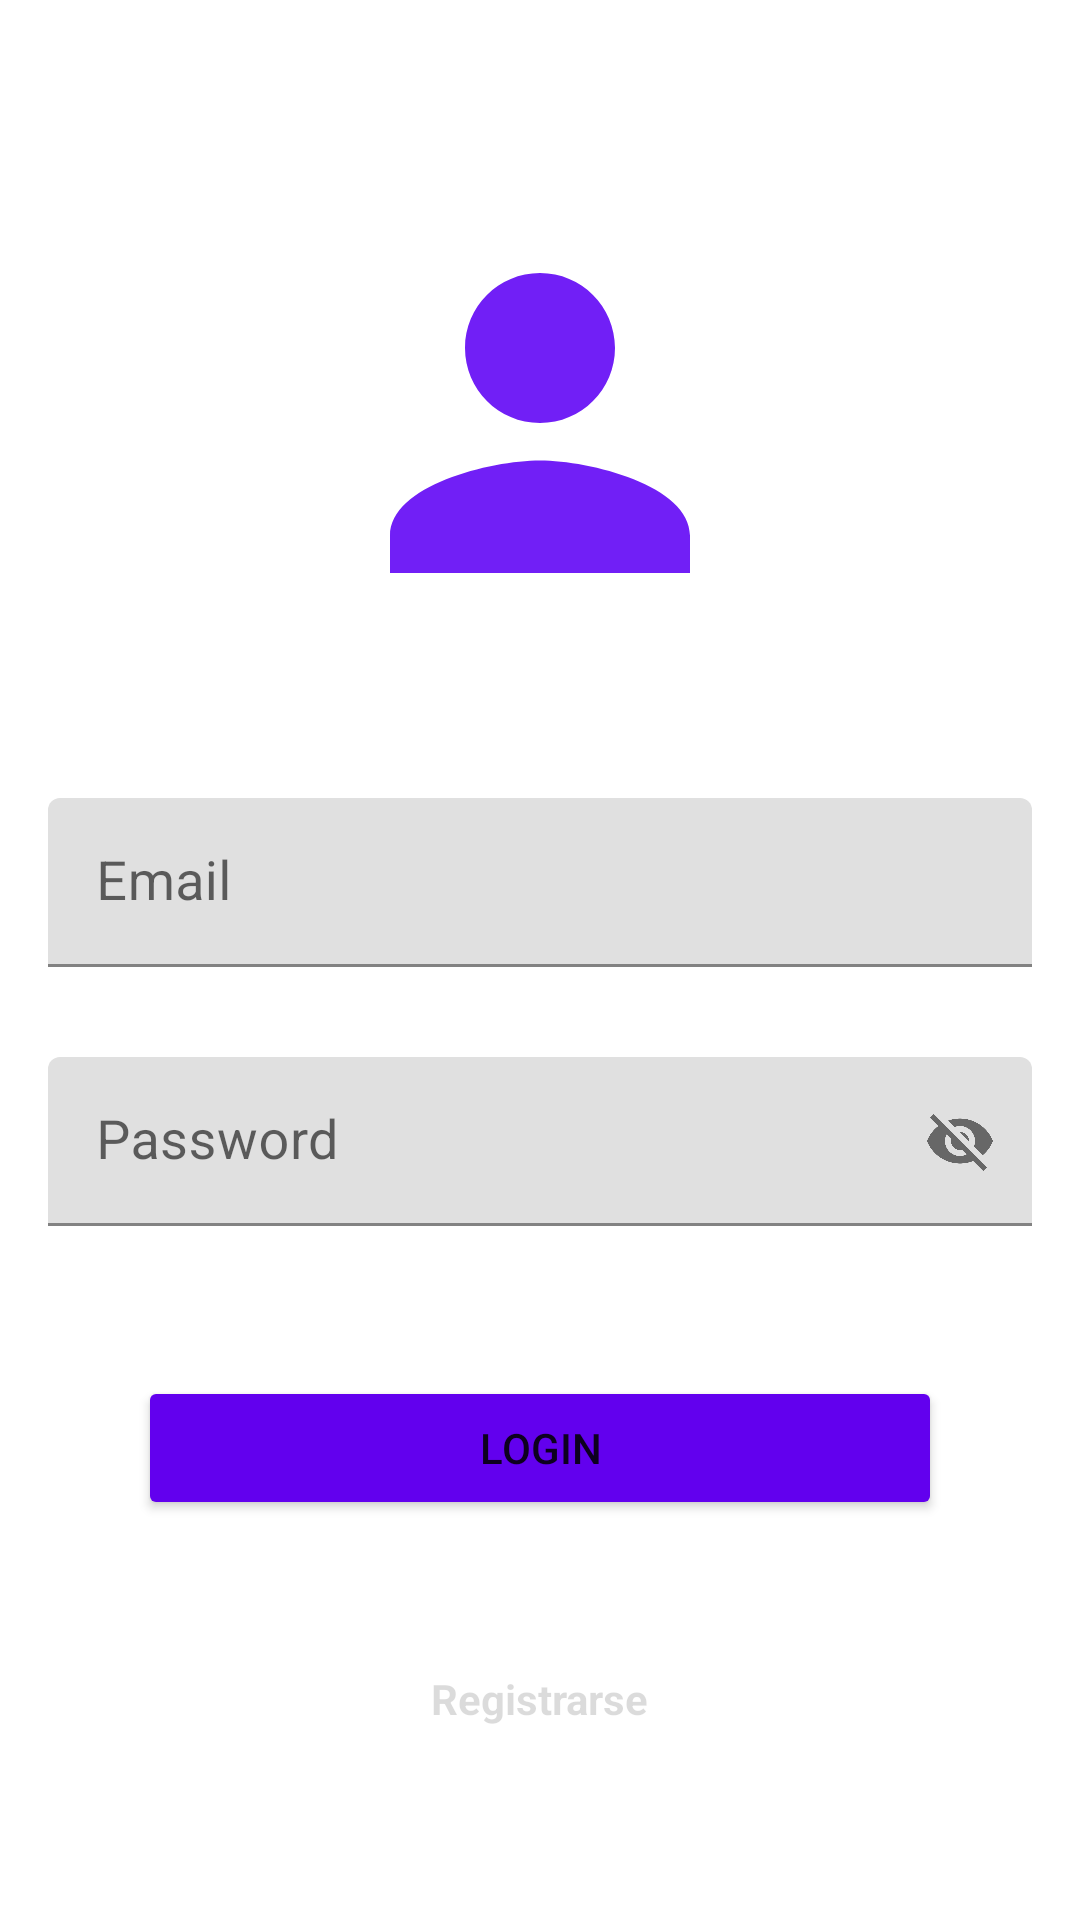

Icons on this 1080x1920 Android screen, each with its box as rect(x1, y1, x2, y2):
login: rect(390, 273, 690, 573)
